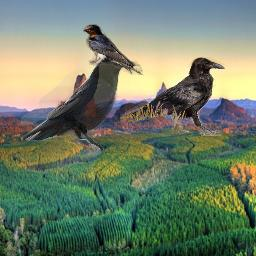Crow: (21, 55, 136, 150), (120, 57, 225, 136)
Swallow: (83, 24, 144, 76)
